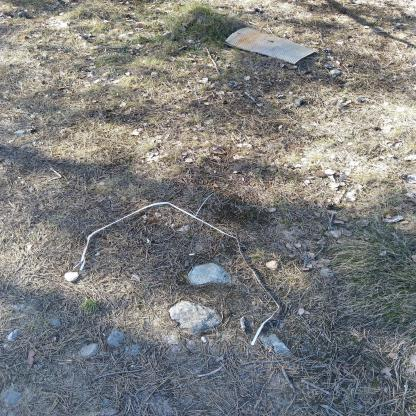Corrugated carton: (225, 28, 319, 64)
Rope - strings: (74, 193, 279, 346)
